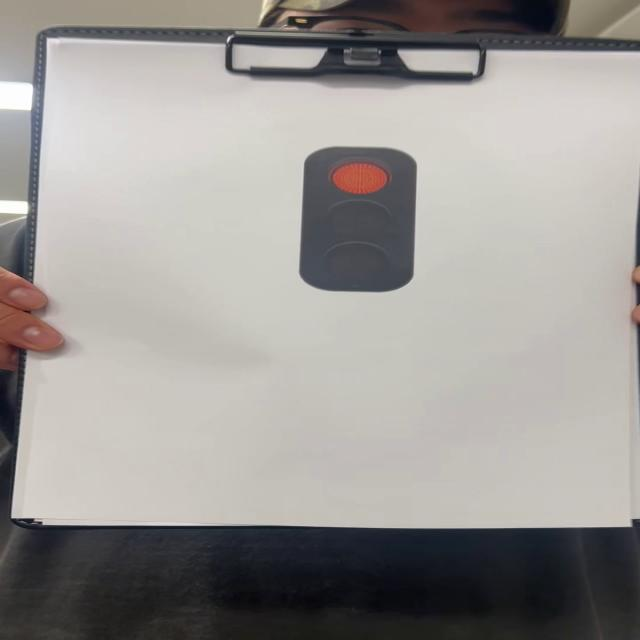red: (300, 146, 422, 292)
